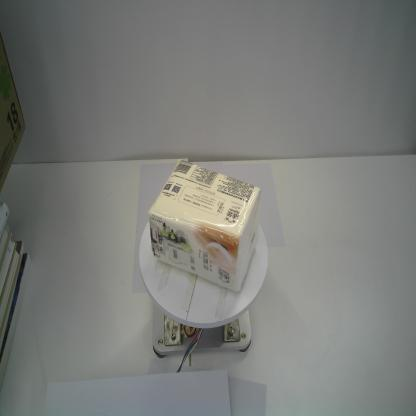Tissue: (146, 158, 264, 295)
